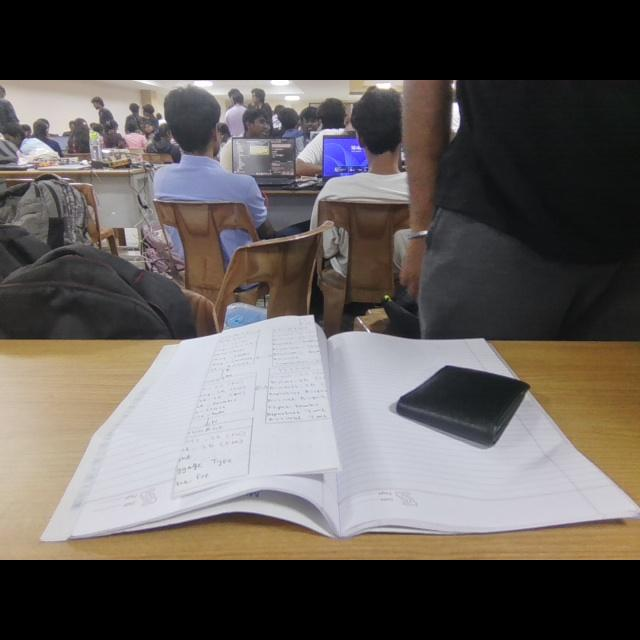wallet: (394, 350, 538, 468)
